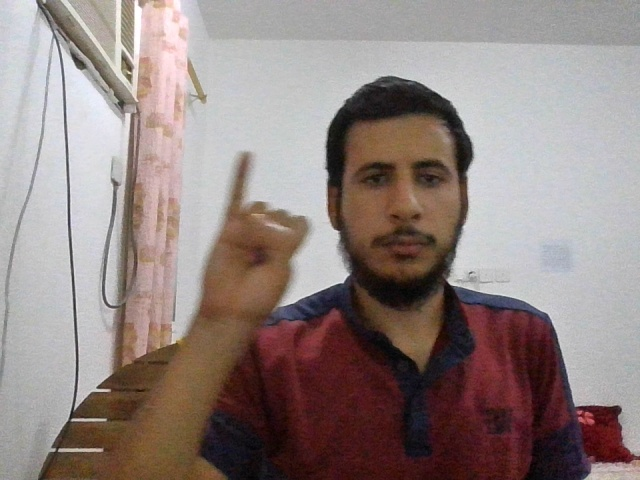One: (199, 150, 311, 321)
